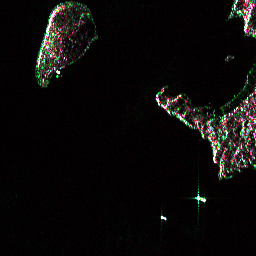ship: (194, 194, 208, 205), (158, 212, 169, 223)
